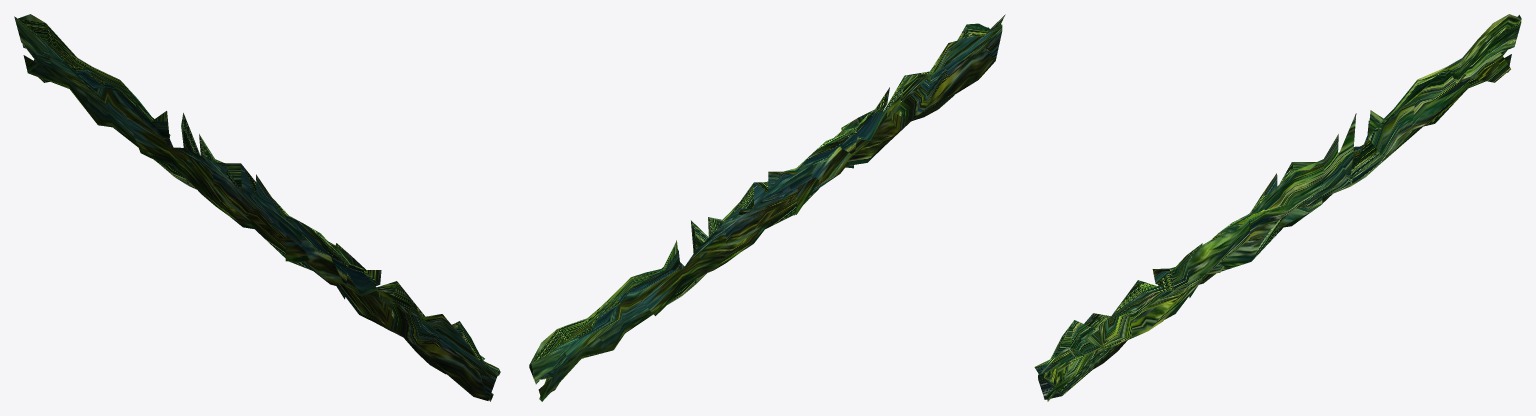
The picture shows the model from 3 angles, left to right: view 1: azimuth 30°, elevation 25°; view 2: azimuth 150°, elevation 25°; view 3: azimuth 330°, elevation 25°; orthographic projection. The views are drawn at different scales.
Parts seen in each view (by area): view 1: algae_cube_Cube; view 2: algae_cube_Cube; view 3: algae_cube_Cube.
Part boxes in pixels (bbox=[...]): algae_cube_Cube: bbox=[14, 14, 500, 401]; algae_cube_Cube: bbox=[529, 14, 1005, 401]; algae_cube_Cube: bbox=[1034, 14, 1521, 401].
Size of the model in its own units: 0.0134 by 0.2575 by 3.1.
